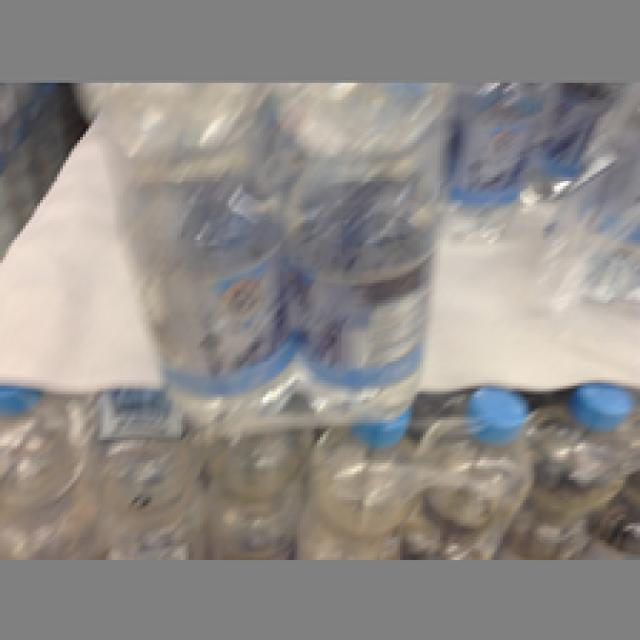groceries: (89, 83, 288, 426), (274, 86, 434, 426)
